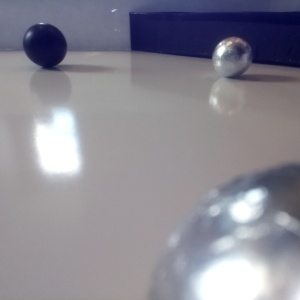zone: (130, 11, 300, 68)
